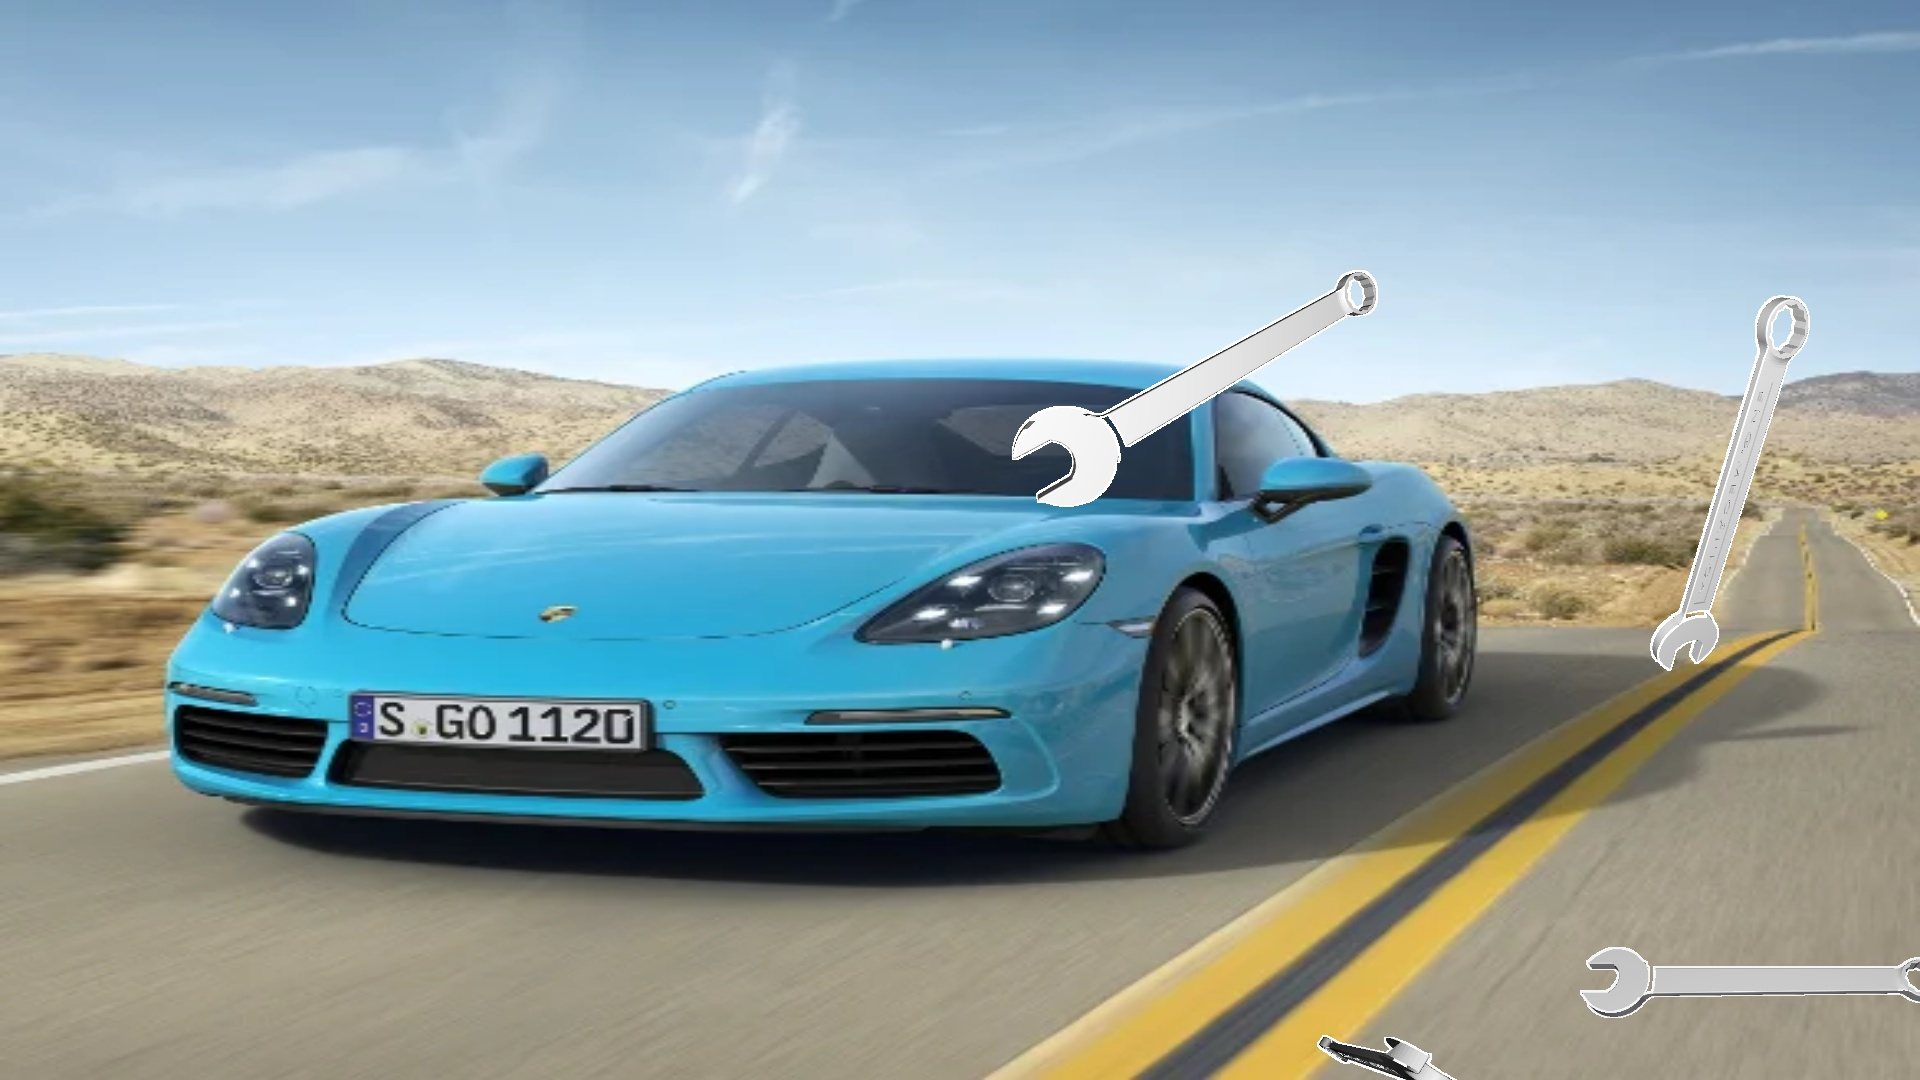Mixed Key: (1011, 270, 1377, 506), (1650, 295, 1809, 670), (1580, 947, 1919, 1017), (1317, 1035, 1456, 1079)
